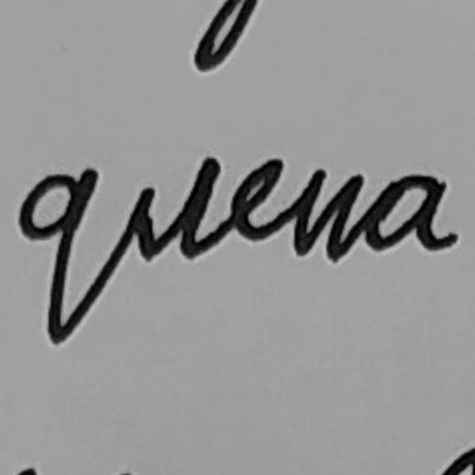a: (360, 166, 460, 260)
e: (226, 155, 288, 242)
n: (288, 163, 368, 267)
q: (14, 162, 104, 348)
u: (123, 151, 224, 264)
